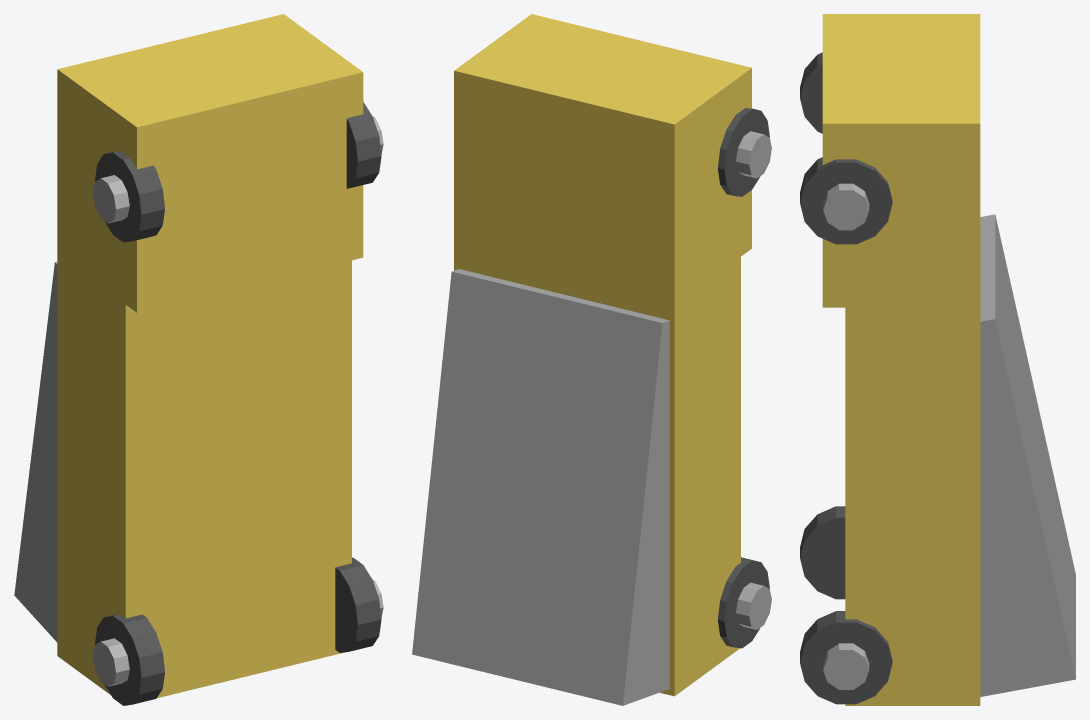
File: dump_truck.glb
3 renders of one model, left to right at view 1: azimuth 30°, elevation 25°; view 2: azimuth 150°, elevation 25°; view 3: azimuth 270°, elevation 25°, orthographic. The views are drawn at different scales.
Parts seen in each view (by area): view 1: cargo, cab, bed_up, wheel_-1_-1, wheel_-1_1, wheel_1_-1, wheel_1_1, hub_-1_-1, hub_-1_1; view 2: bed_up, cab, cargo, wheel_-1_-1, wheel_-1_1, hub_-1_1, hub_-1_-1; view 3: cargo, cab, bed_up, wheel_1_-1, wheel_1_1, wheel_-1_-1, hub_1_1, hub_1_-1, wheel_-1_1.
Part boxes in pixels (x1,y1,x2,y2): cargo: [57, 224, 351, 705]; cab: [57, 14, 363, 312]; bed_up: [14, 261, 57, 642]; wheel_-1_-1: [95, 614, 164, 705]; wheel_-1_1: [95, 151, 164, 242]; wheel_1_-1: [335, 557, 381, 652]; wheel_1_1: [346, 102, 381, 188]; hub_-1_-1: [93, 638, 129, 686]; hub_-1_1: [93, 175, 129, 223]; bed_up: [412, 269, 669, 705]; cab: [454, 14, 751, 304]; cargo: [454, 227, 740, 696]; wheel_-1_-1: [718, 557, 769, 648]; wheel_-1_1: [718, 108, 769, 196]; hub_-1_1: [736, 131, 771, 178]; hub_-1_-1: [736, 582, 771, 629]; cargo: [845, 277, 980, 705]; cab: [822, 14, 980, 307]; bed_up: [980, 214, 1075, 696]; wheel_1_-1: [800, 611, 892, 704]; wheel_1_1: [800, 157, 892, 244]; wheel_-1_-1: [800, 506, 845, 599]; hub_1_1: [823, 183, 869, 230]; hub_1_-1: [823, 643, 869, 689]; wheel_-1_1: [800, 52, 822, 133].
Bounding box in the file's own units: 2.72 × 5.7 × 2.45.
